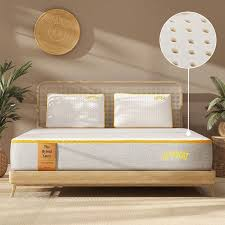bed-matress: (10, 123, 213, 171)
